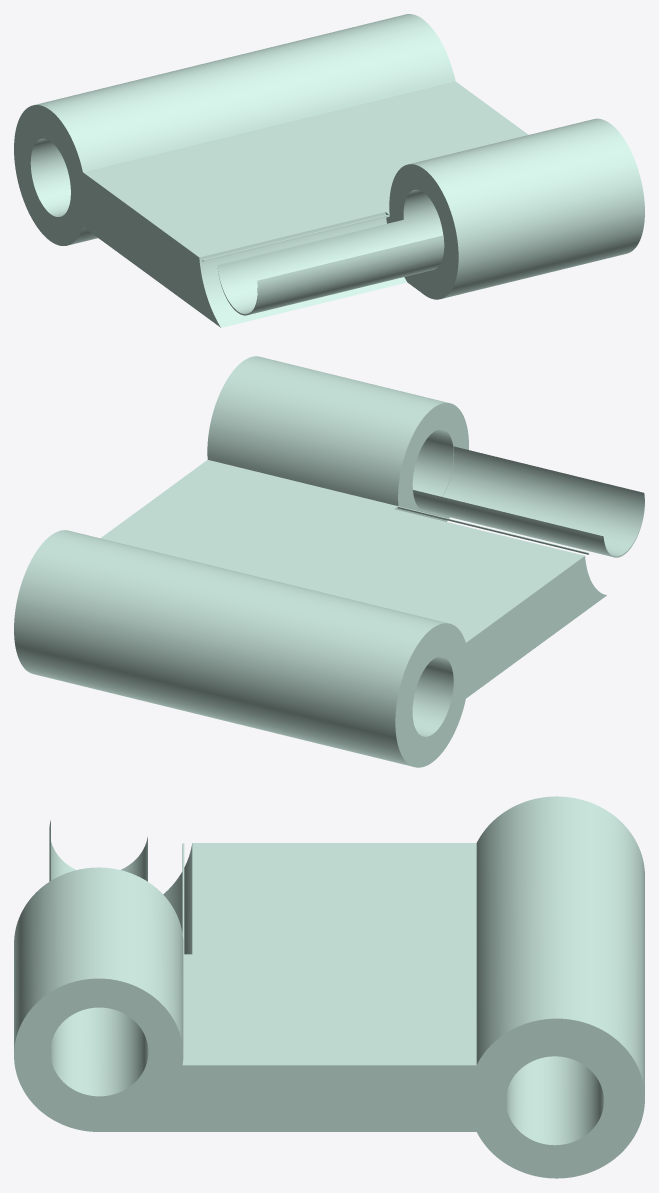
The picture shows the model from 3 angles, top to bottom: view 1: azimuth 30°, elevation 25°; view 2: azimuth 150°, elevation 25°; view 3: azimuth 270°, elevation 25°; orthographic projection. The views are drawn at different scales.
Visible parts, largest first — view 1: Renderer Node; view 2: Renderer Node; view 3: Renderer Node.
Boxes of the visible parts, left/top/right/bottom form: Renderer Node: left=14, top=14, right=644, bottom=327; Renderer Node: left=14, top=356, right=644, bottom=767; Renderer Node: left=14, top=796, right=644, bottom=1178.
Bounding box in the file's own units: 0.75 × 0.3148 × 0.9004.
